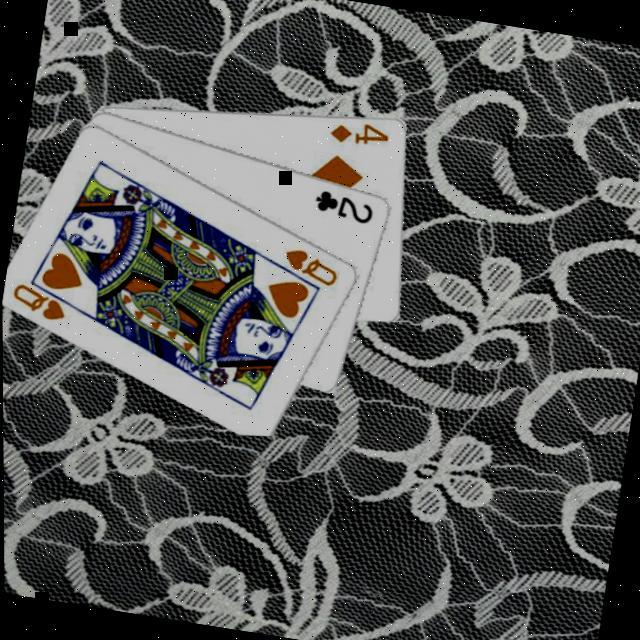2C: (308, 187, 376, 229)
4D: (324, 116, 392, 154)
QH: (4, 275, 83, 328), (276, 244, 342, 292)
